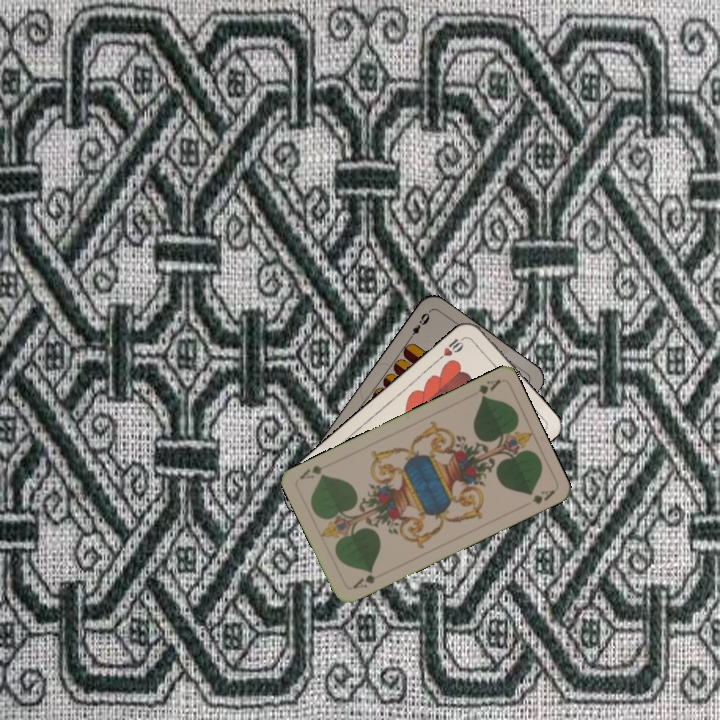E9: (404, 307, 432, 343)
GA: (474, 375, 503, 401), (348, 567, 378, 591)
H10: (434, 333, 468, 363)
